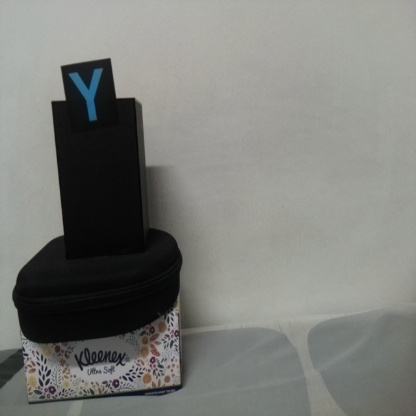id_14: (62, 64, 115, 129)
